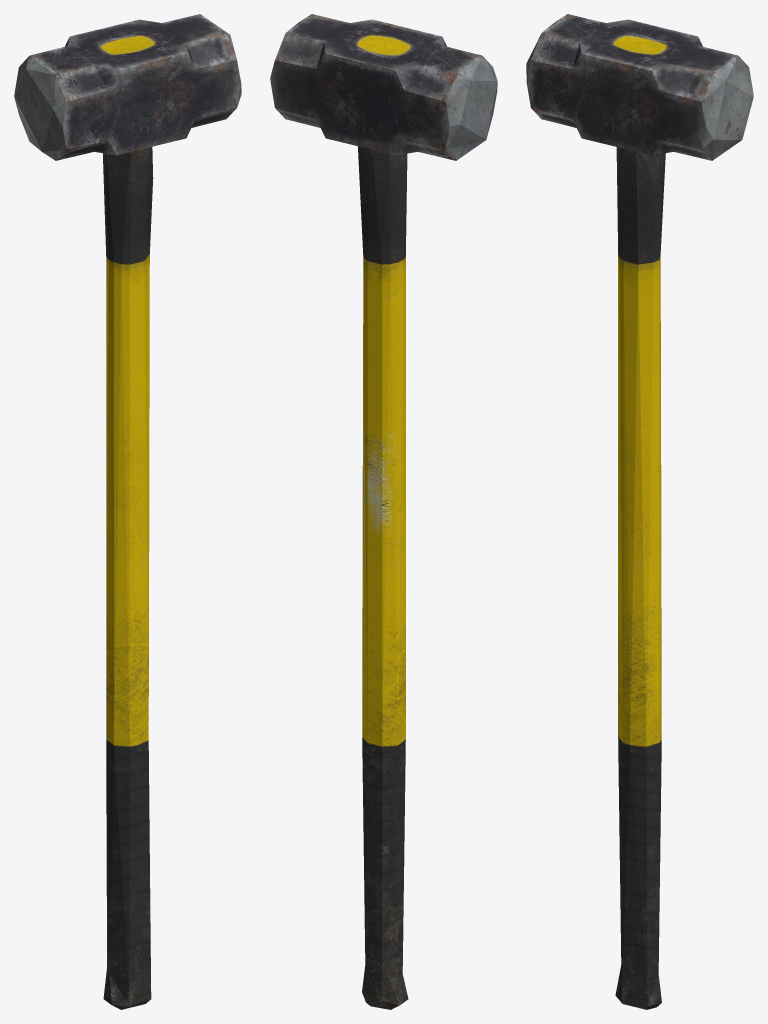
File: Sledgehammer_LOD2.obj
The picture shows the model from 3 angles, left to right: view 1: azimuth 30°, elevation 25°; view 2: azimuth 150°, elevation 25°; view 3: azimuth 330°, elevation 25°; orthographic projection.
Visible parts, largest first — view 1: Cube_008; view 2: Cube_008; view 3: Cube_008.
Part boxes in pixels (x1,y1,x2,y2): Cube_008: (14, 14, 241, 1009); Cube_008: (270, 14, 497, 1009); Cube_008: (526, 14, 753, 1009).
Size of the model in its own units: 0.2084 by 1.01 by 0.0904.
Materials: 1 (1 with a texture image).
